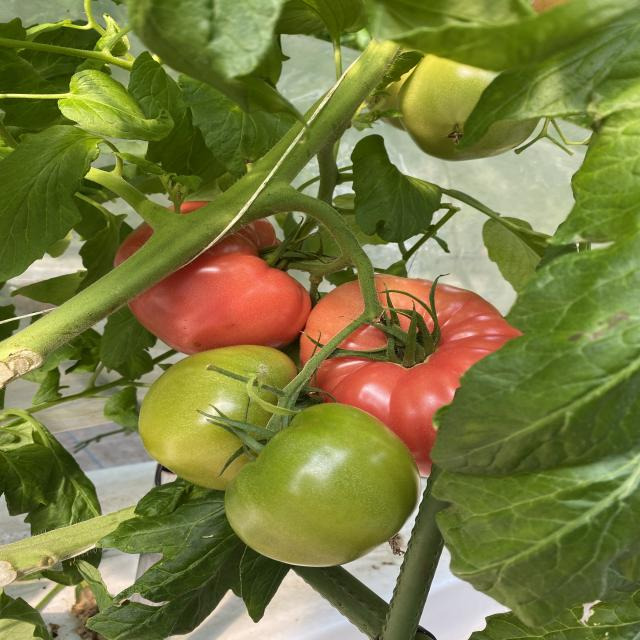n-half-riped: (299, 274, 522, 476)
n-riped: (112, 201, 311, 357)
n-unriped: (224, 403, 422, 568), (138, 345, 297, 490), (397, 54, 541, 162)
